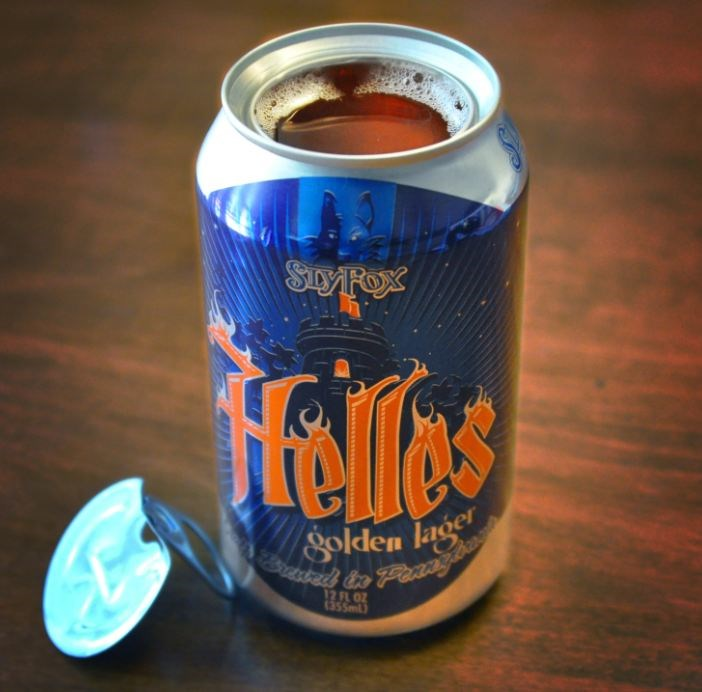beer can: (198, 22, 529, 652)
